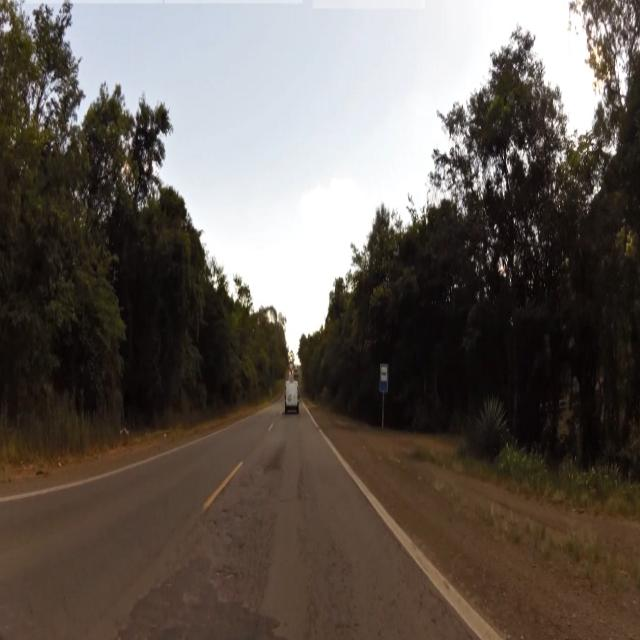S-14: (380, 362, 388, 396)
